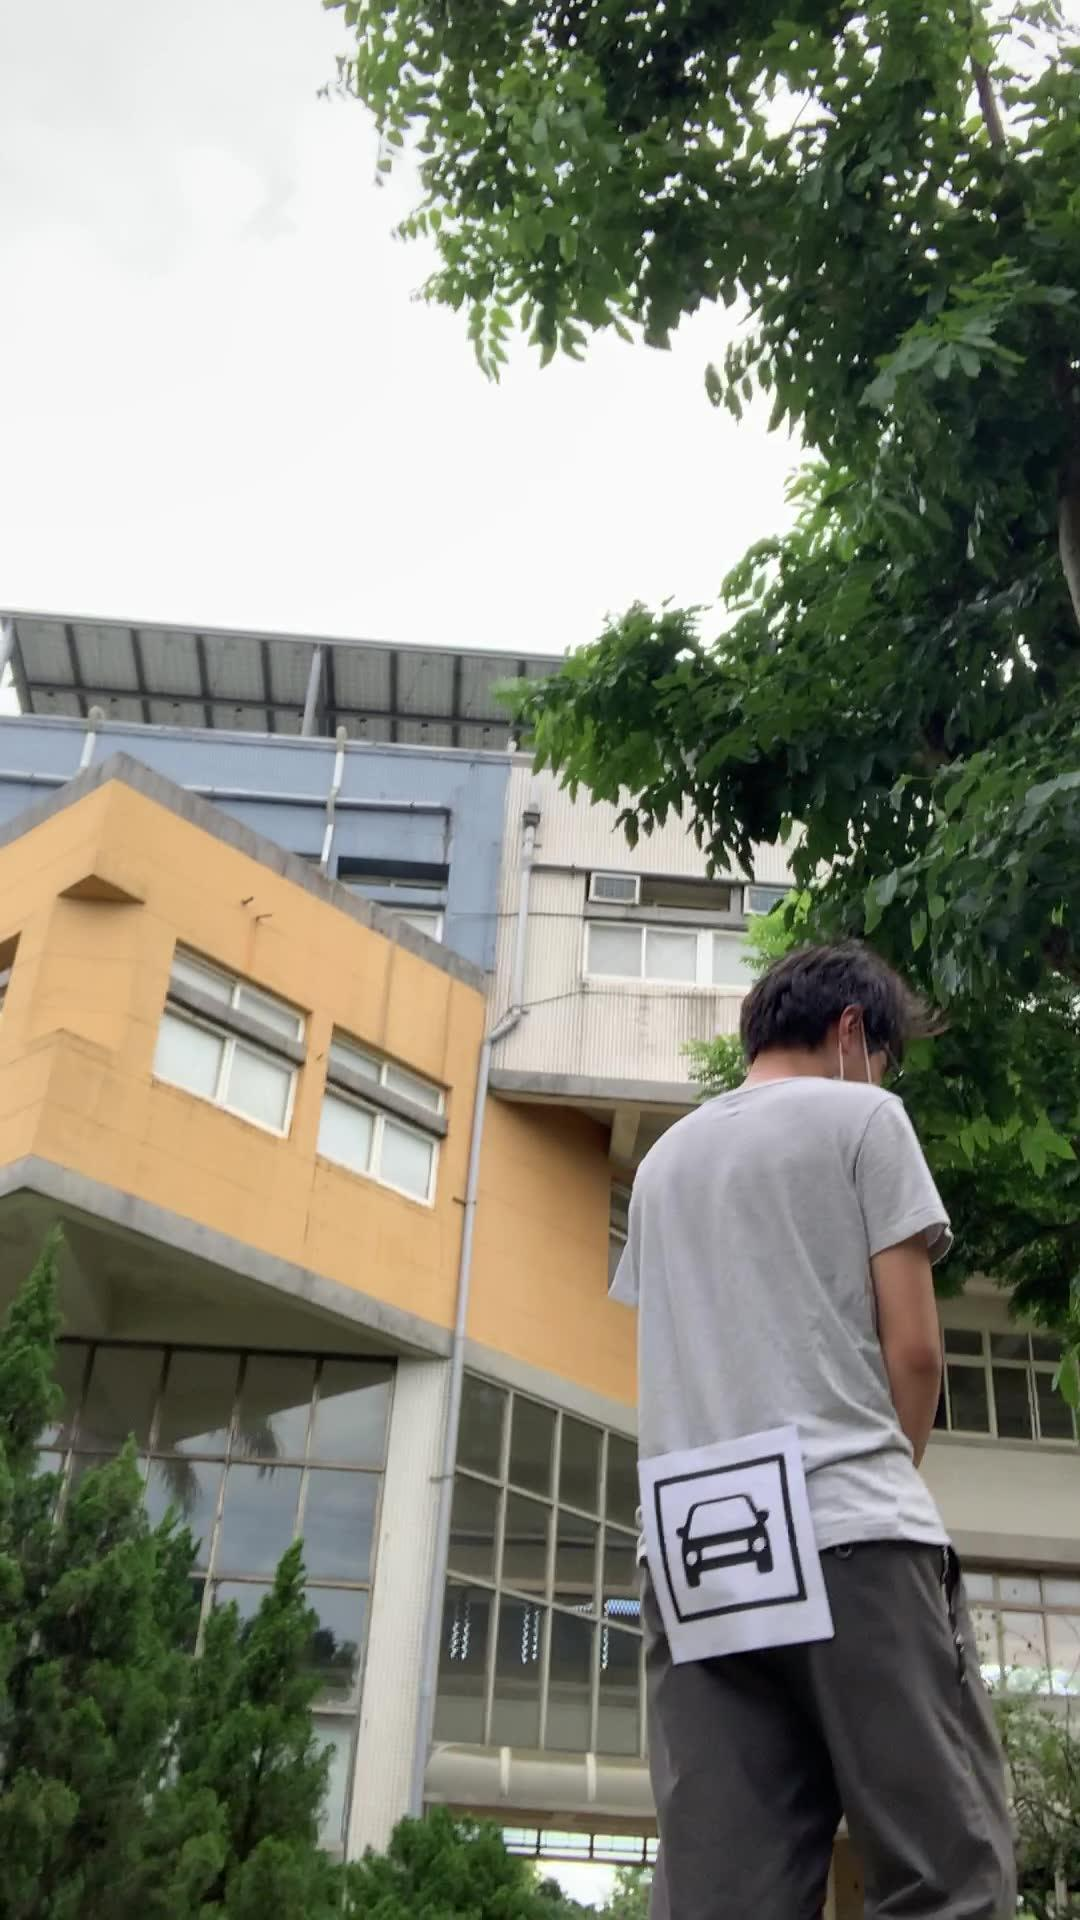car_img: (653, 1452, 808, 1623)
